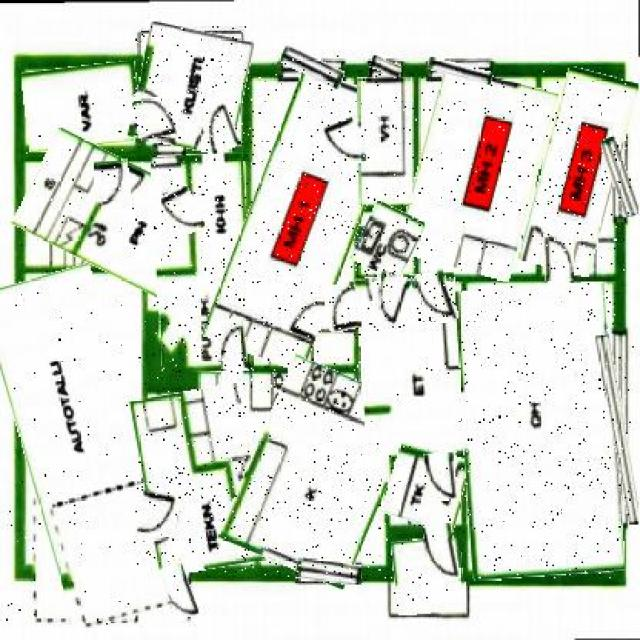door: (416, 271, 456, 326), (369, 272, 408, 328), (424, 523, 458, 582), (160, 188, 202, 235), (140, 491, 180, 537), (325, 120, 363, 168), (163, 563, 195, 620), (134, 98, 175, 142), (201, 103, 237, 152), (325, 283, 360, 331), (94, 160, 131, 205), (217, 318, 248, 369), (425, 454, 457, 500), (544, 236, 574, 282)
window: (606, 334, 634, 526), (608, 135, 635, 217), (280, 52, 345, 83), (296, 560, 362, 583), (428, 60, 492, 82), (369, 58, 402, 77)
zone: (2, 268, 162, 628), (462, 283, 622, 579), (225, 70, 382, 368), (237, 363, 403, 580), (408, 71, 546, 277), (18, 143, 202, 283), (137, 388, 261, 572), (360, 274, 465, 480), (154, 152, 252, 372), (529, 70, 626, 276), (134, 26, 248, 152), (25, 63, 142, 149), (358, 77, 412, 205), (386, 446, 468, 529), (392, 537, 465, 614), (354, 204, 420, 278)
